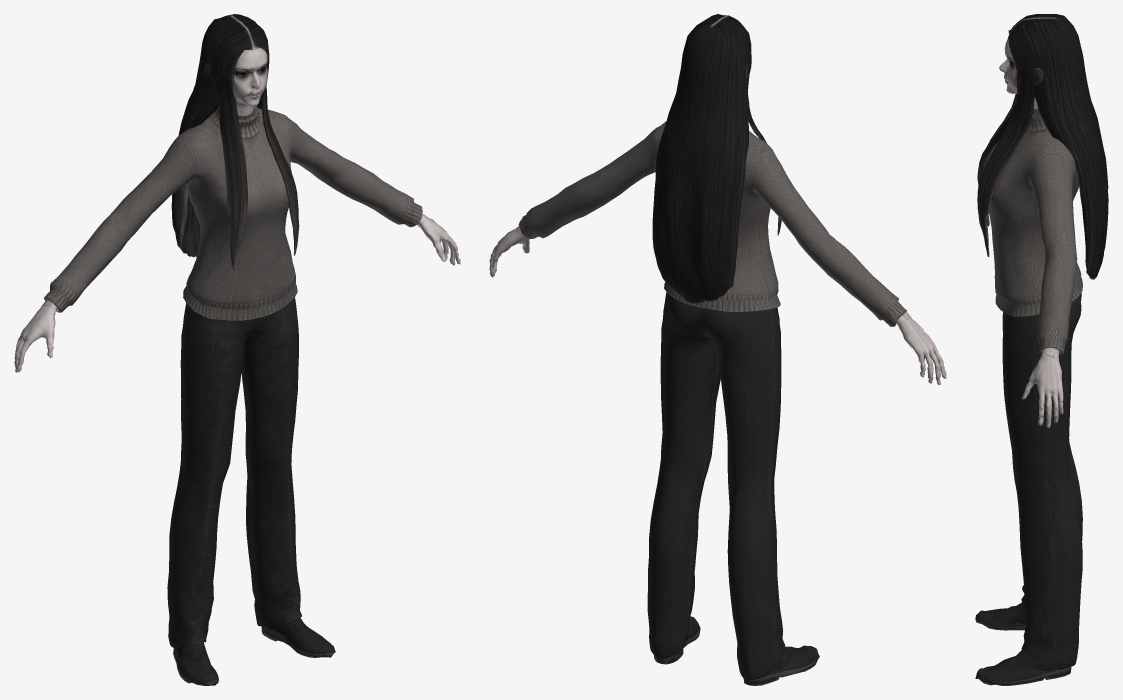
Rendered from window-watcher-meshy.glb.
3 views of the same model, side by side, from view 1: azimuth 30°, elevation 25°; view 2: azimuth 150°, elevation 25°; view 3: azimuth 270°, elevation 25° (orthographic). The views are drawn at different scales.
Size of the model in its own units: 0.7383 by 1 by 0.1909.
Materials: 1 (1 with a texture image).
